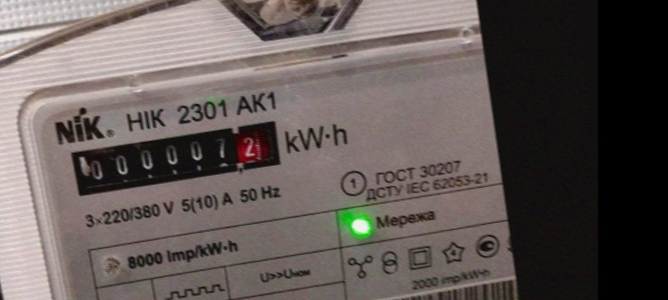0: (163, 142, 181, 167), (88, 156, 105, 182), (113, 152, 129, 176), (139, 147, 155, 171), (188, 138, 204, 162)
2: (241, 134, 257, 159)
7: (214, 134, 229, 160)
screen: (59, 109, 293, 206)
